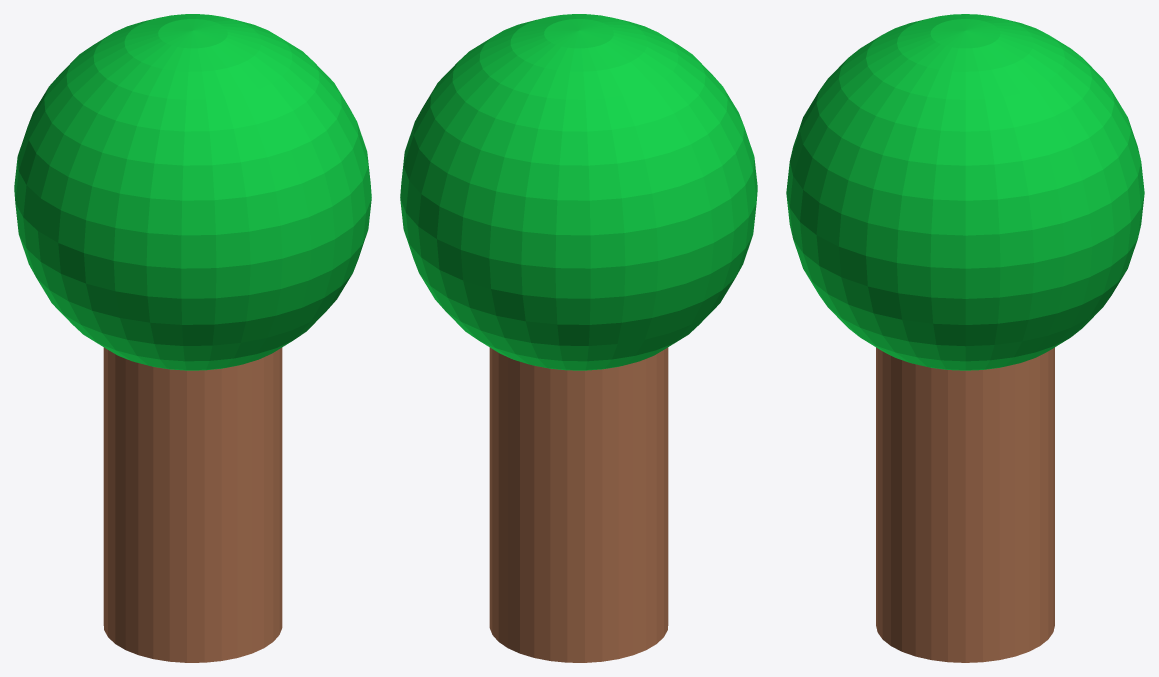
The model's file is lushTree.fbx.
3 renders of one model, left to right at view 1: azimuth 30°, elevation 25°; view 2: azimuth 150°, elevation 25°; view 3: azimuth 270°, elevation 25°, orthographic.
Visible parts, largest first — view 1: Sphere, Cylinder; view 2: Sphere, Cylinder; view 3: Sphere, Cylinder.
Boxes of the visible parts, <box> form: Sphere: <box>14,14,371,370</box>; Cylinder: <box>103,347,282,662</box>; Sphere: <box>400,14,757,370</box>; Cylinder: <box>489,347,668,662</box>; Sphere: <box>786,14,1144,370</box>; Cylinder: <box>876,347,1054,662</box>.
Bounding box in the file's own units: 200 × 366 × 200.
